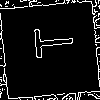T: (24, 25, 74, 60)
